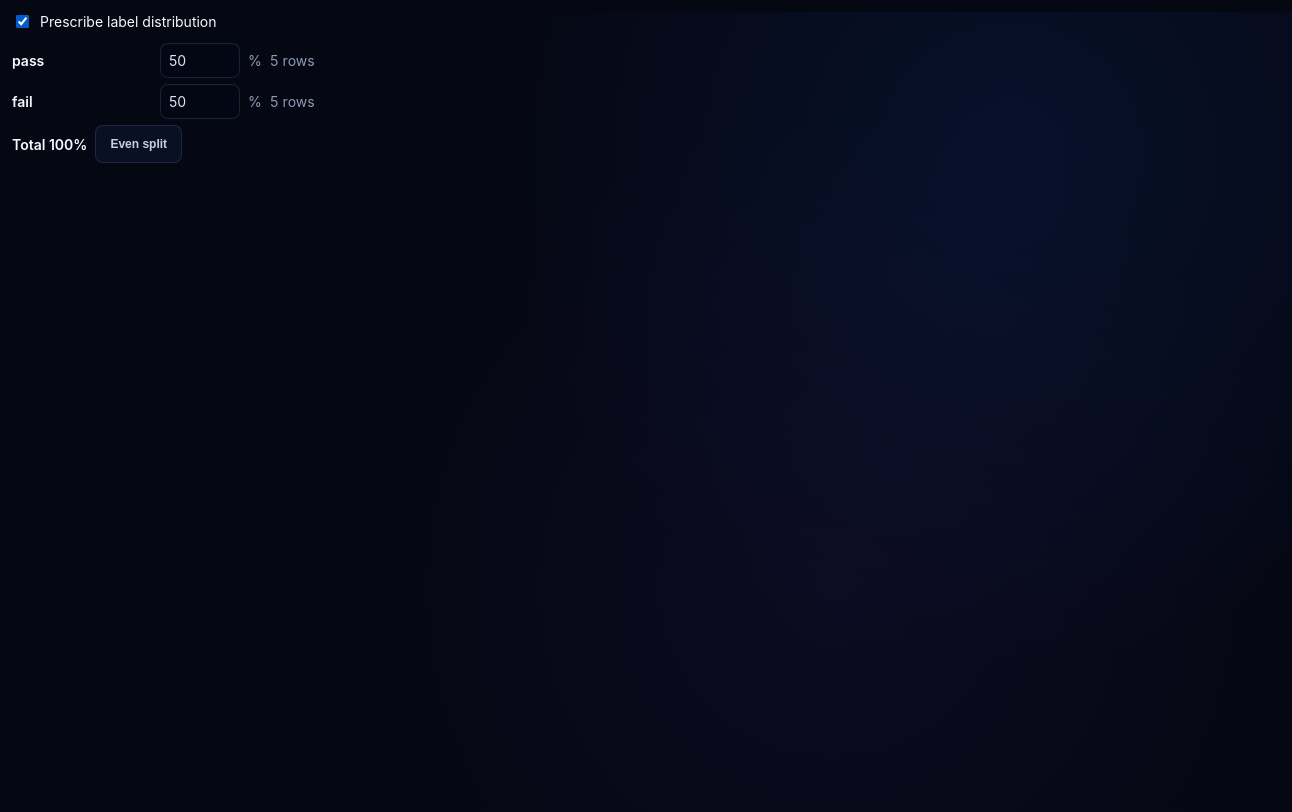
Test: LabelMixEditor › treats a cleared input as zero rather than NaN
The width and height of the screenshot is (1292, 812).
Step 1. Clear the number field named "Percent for pass" → (200, 60), box [160,43,240,78]
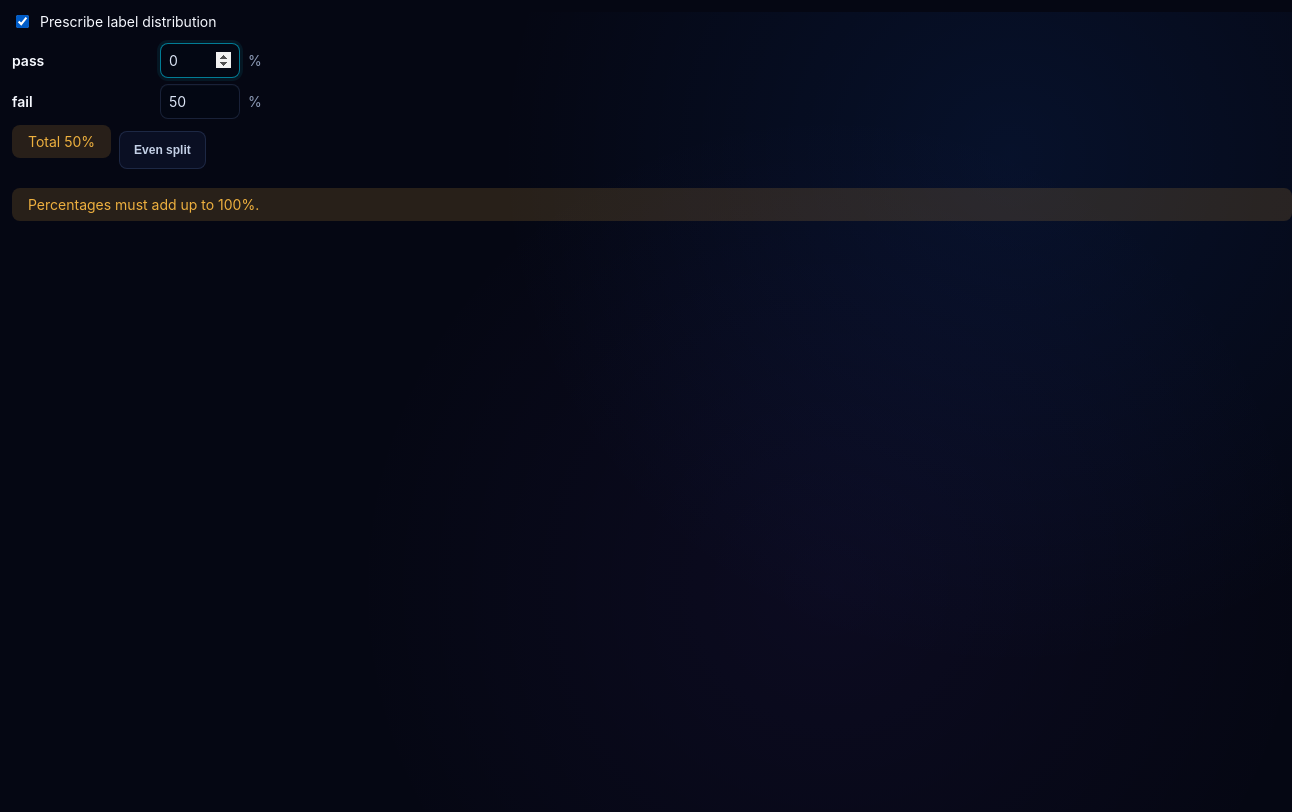
Check: the text "Total 50%" is shown, box [12,125,111,158]
